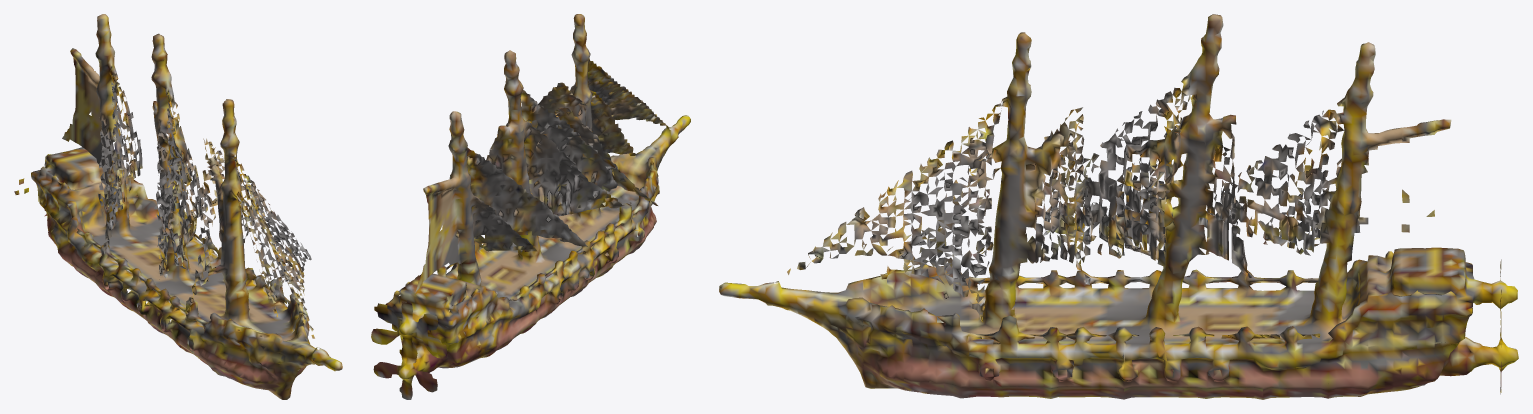
The model's file is mon3d.glb.
The picture shows the model from 3 angles, left to right: view 1: azimuth 30°, elevation 25°; view 2: azimuth 150°, elevation 25°; view 3: azimuth 270°, elevation 25°; orthographic projection. The views are drawn at different scales.
Size of the model in its own units: 0.525 by 1.03 by 1.96.
